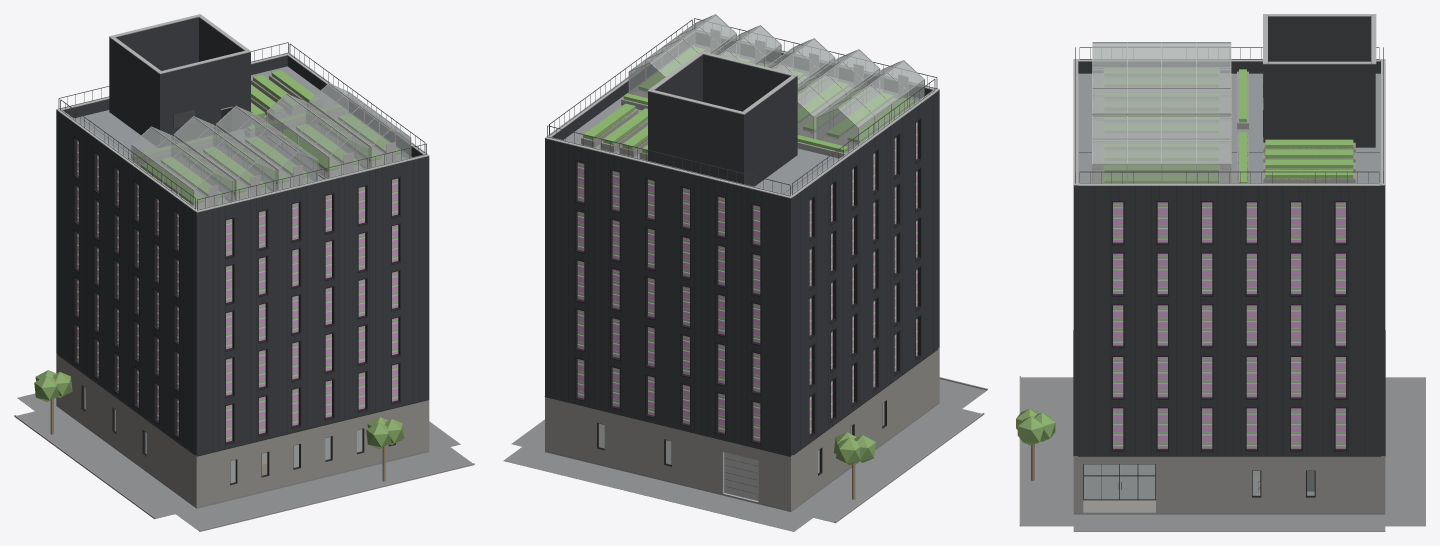
File: clay-led-grow-block-clay-v004.glb
3 views of the same model, side by side, from view 1: azimuth 30°, elevation 25°; view 2: azimuth 150°, elevation 25°; view 3: azimuth 270°, elevation 25° (orthographic). The views are drawn at different scales.
Visible parts, largest first — view 1: CLAY_WALL, CLAY_GLASS, CLAY_STONE, CLAY_TRIM, CLAY_FOUNDATION, CLAY_LEAF, CLAY_PALE, CLAY_LED, CLAY_JOINT, CLAY_SAND, CLAY_MEMBRANE, CLAY_HARDWARE (+2 smaller); view 2: CLAY_WALL, CLAY_GLASS, CLAY_STONE, CLAY_TRIM, CLAY_FOUNDATION, CLAY_PALE, CLAY_LEAF, CLAY_JOINT, CLAY_LED, CLAY_MEMBRANE, CLAY_SAND, CLAY_RACK (+2 smaller); view 3: CLAY_WALL, CLAY_GLASS, CLAY_FOUNDATION, CLAY_LEAF, CLAY_STONE, CLAY_LED, CLAY_PALE, CLAY_TRIM, CLAY_MEMBRANE, CLAY_JOINT, CLAY_SAND, CLAY_RACK (+2 smaller).
Boxes of the visible parts, left/top/right/bottom form: CLAY_WALL: left=56, top=17, right=429, bottom=455; CLAY_GLASS: left=77, top=84, right=410, bottom=483; CLAY_STONE: left=14, top=353, right=474, bottom=531; CLAY_TRIM: left=73, top=107, right=400, bottom=485; CLAY_FOUNDATION: left=15, top=393, right=473, bottom=531; CLAY_LEAF: left=77, top=70, right=401, bottom=438; CLAY_PALE: left=56, top=14, right=429, bottom=212; CLAY_LED: left=77, top=144, right=398, bottom=441; CLAY_JOINT: left=58, top=118, right=429, bottom=456; CLAY_SAND: left=128, top=75, right=406, bottom=209; CLAY_MEMBRANE: left=74, top=66, right=411, bottom=201; CLAY_HARDWARE: left=58, top=42, right=426, bottom=210; CLAY_WALL: left=545, top=33, right=939, bottom=455; CLAY_GLASS: left=577, top=15, right=923, bottom=472; CLAY_STONE: left=545, top=347, right=987, bottom=522; CLAY_TRIM: left=574, top=118, right=921, bottom=475; CLAY_FOUNDATION: left=503, top=379, right=986, bottom=531; CLAY_PALE: left=544, top=14, right=939, bottom=502; CLAY_LEAF: left=577, top=46, right=917, bottom=437; CLAY_JOINT: left=544, top=94, right=937, bottom=494; CLAY_LED: left=577, top=125, right=917, bottom=441; CLAY_MEMBRANE: left=563, top=44, right=918, bottom=195; CLAY_SAND: left=581, top=52, right=899, bottom=160; CLAY_RACK: left=577, top=76, right=917, bottom=441; CLAY_WALL: left=1073, top=15, right=1385, bottom=491; CLAY_GLASS: left=1084, top=43, right=1345, bottom=499; CLAY_FOUNDATION: left=1020, top=377, right=1425, bottom=531; CLAY_LEAF: left=1104, top=69, right=1353, bottom=444; CLAY_STONE: left=1019, top=376, right=1385, bottom=525; CLAY_LED: left=1113, top=202, right=1345, bottom=448; CLAY_PALE: left=1073, top=14, right=1385, bottom=495; CLAY_TRIM: left=1083, top=110, right=1347, bottom=500; CLAY_MEMBRANE: left=1078, top=73, right=1380, bottom=183; CLAY_JOINT: left=1073, top=152, right=1385, bottom=456; CLAY_SAND: left=1084, top=71, right=1355, bottom=513; CLAY_RACK: left=1103, top=76, right=1345, bottom=474.
Size of the model in its own units: 29.7 by 32.66 by 30.26.
